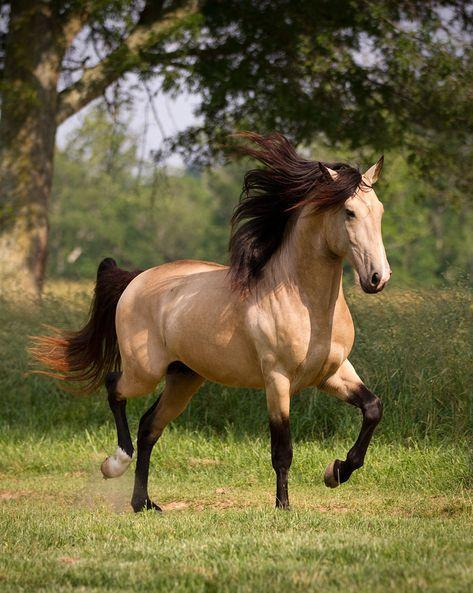horse: (23, 128, 392, 514)
